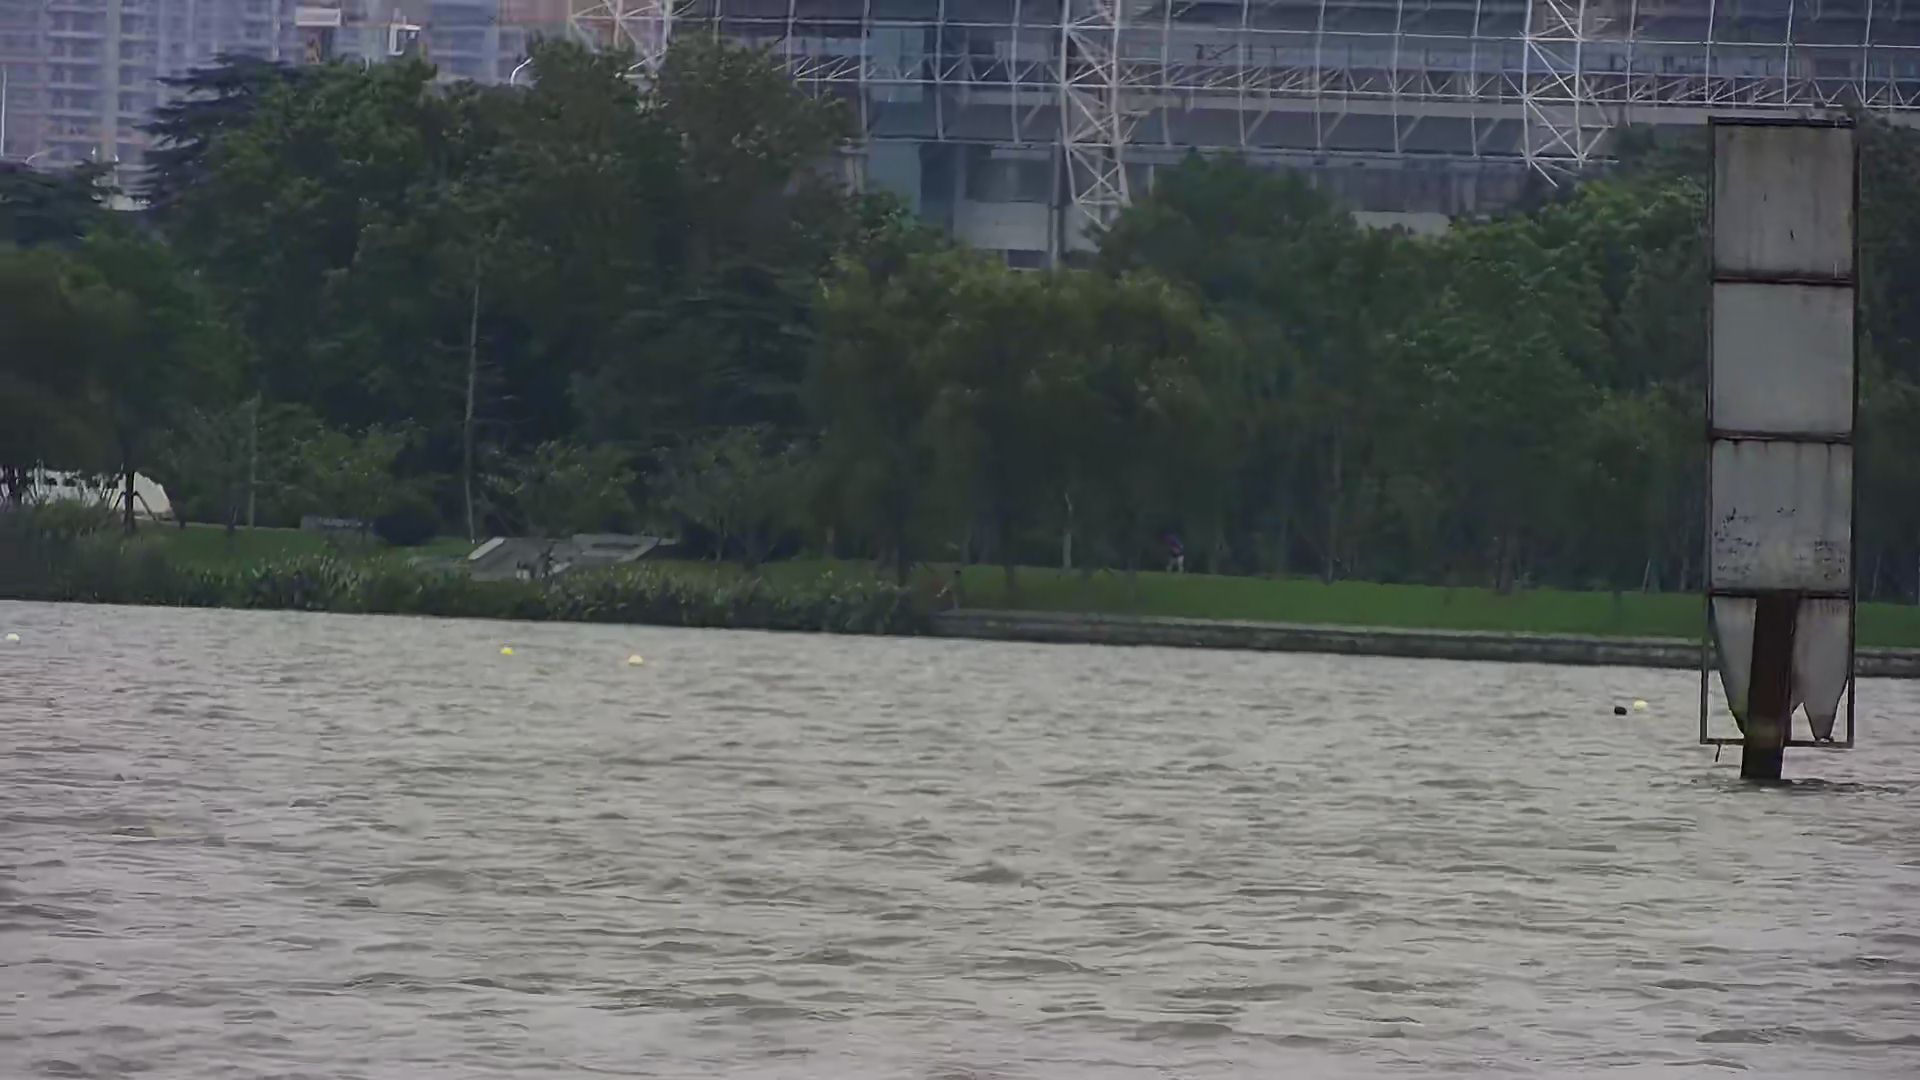mast: (1702, 107, 1867, 806)
